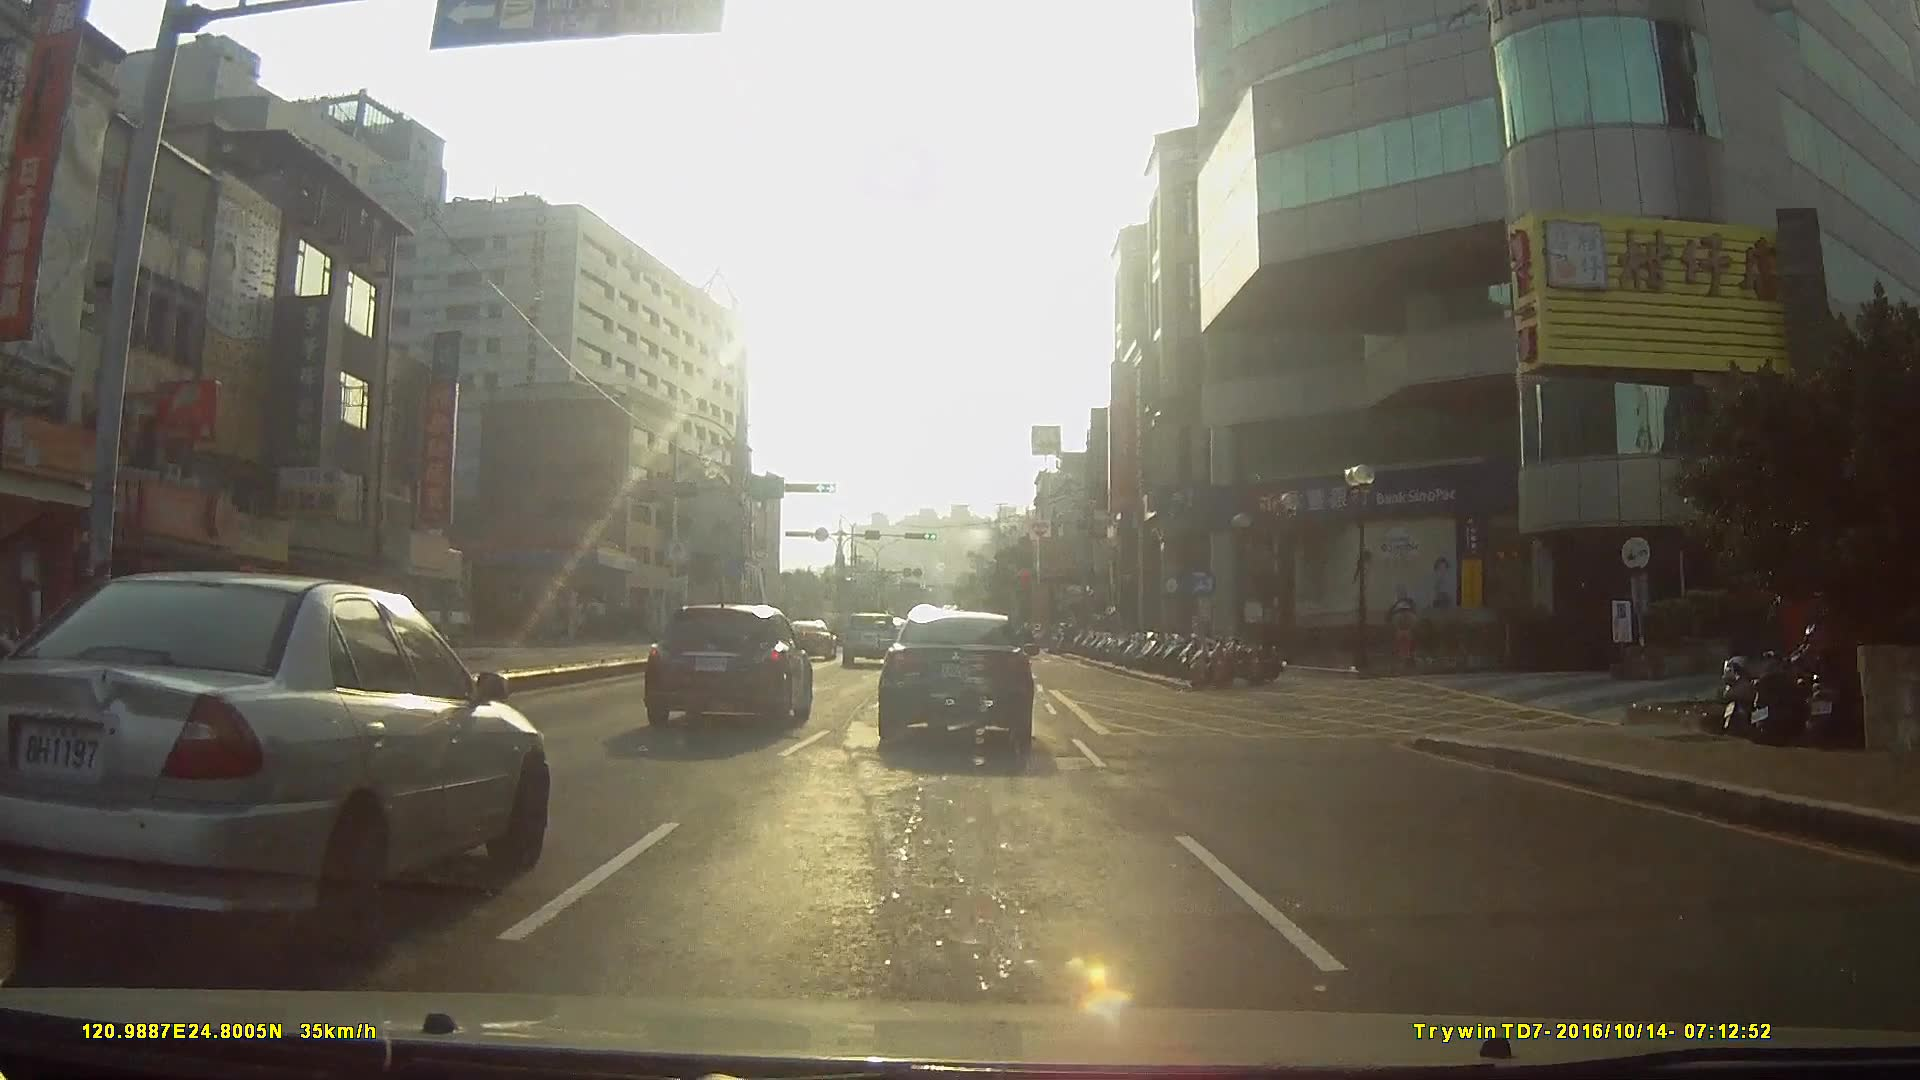pedestrian: (1388, 596, 1423, 680)
vehicle: (0, 566, 542, 961), (875, 603, 1035, 750), (639, 601, 812, 734), (836, 612, 898, 672), (779, 616, 831, 660)
